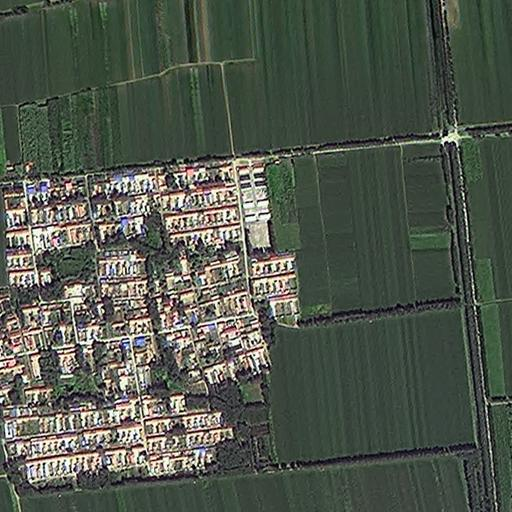school: (237, 156, 274, 254)
